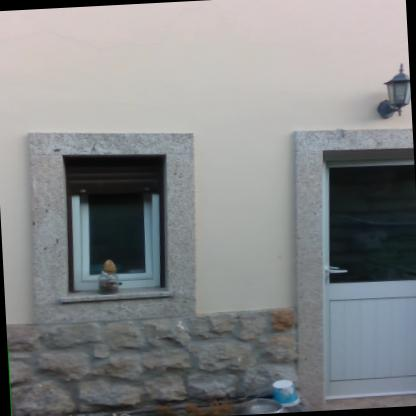closed: (288, 115, 415, 409)
